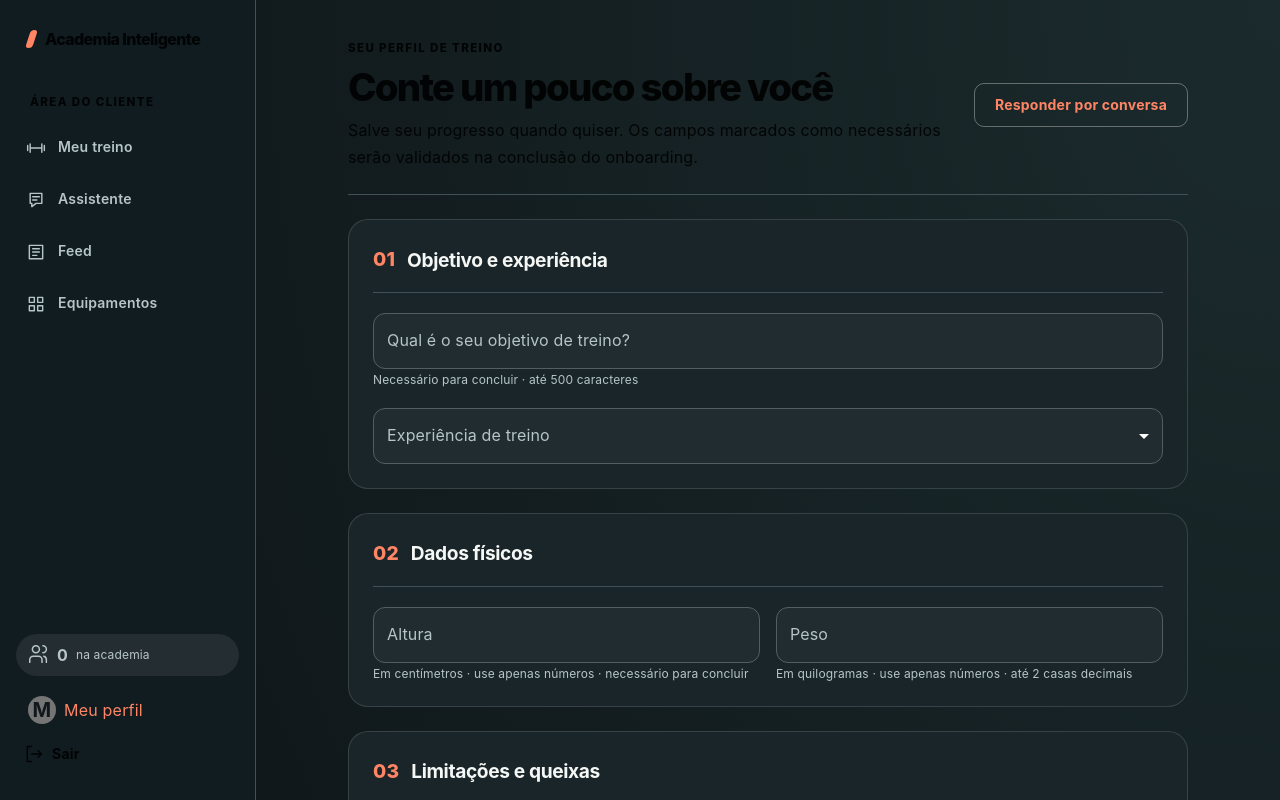
Test: loads the authenticated client draft and saves physical and health fields
Expected: the heading "Conte um pouco sobre você" is shown, [348,64,833,110]
Type "Ganhar força" into the text box labelled "Qual é o seu objetivo de treino?" at (768, 341), box [387,329,1149,352]
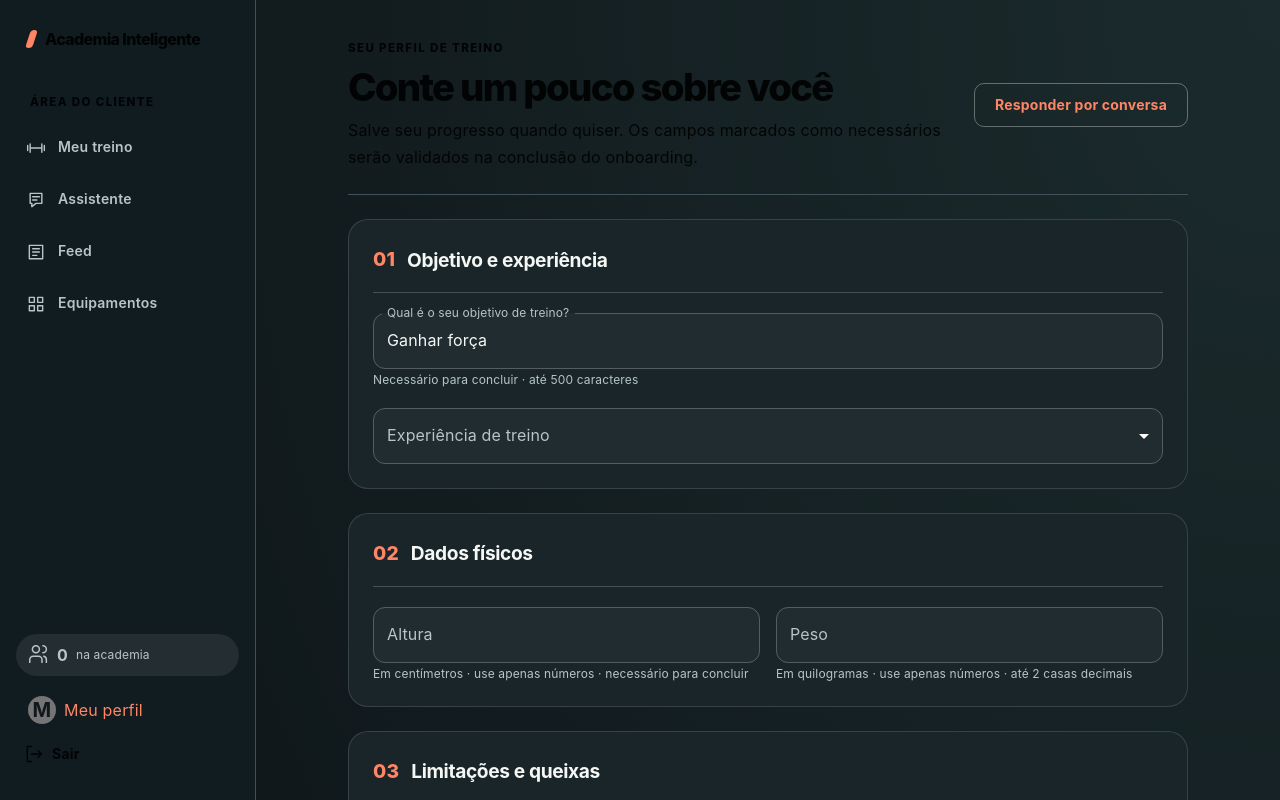
Type "175" into the field labelled "Altura" at (566, 635), box [373,607,760,663]
(page scrolled)
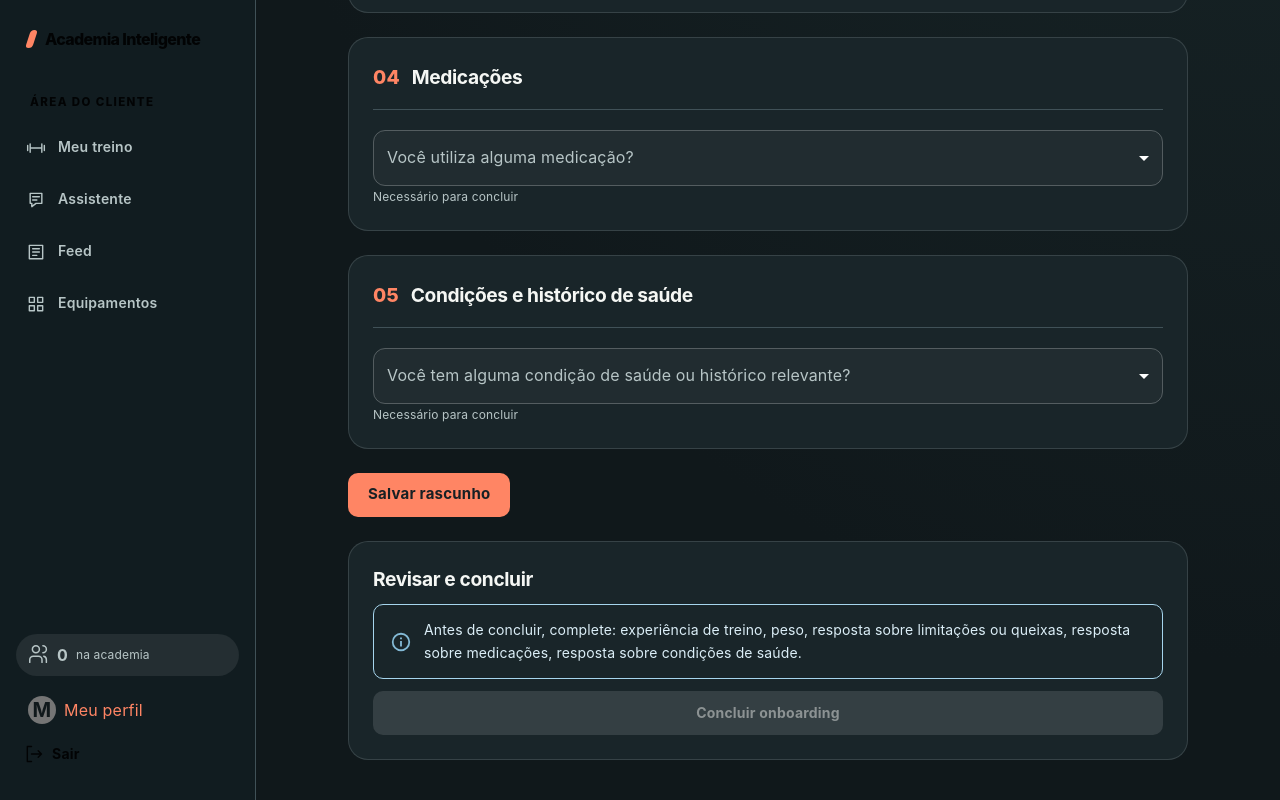
Click the button "Salvar rascunho" at (429, 494), box [348,472,510,516]
(page scrolled)
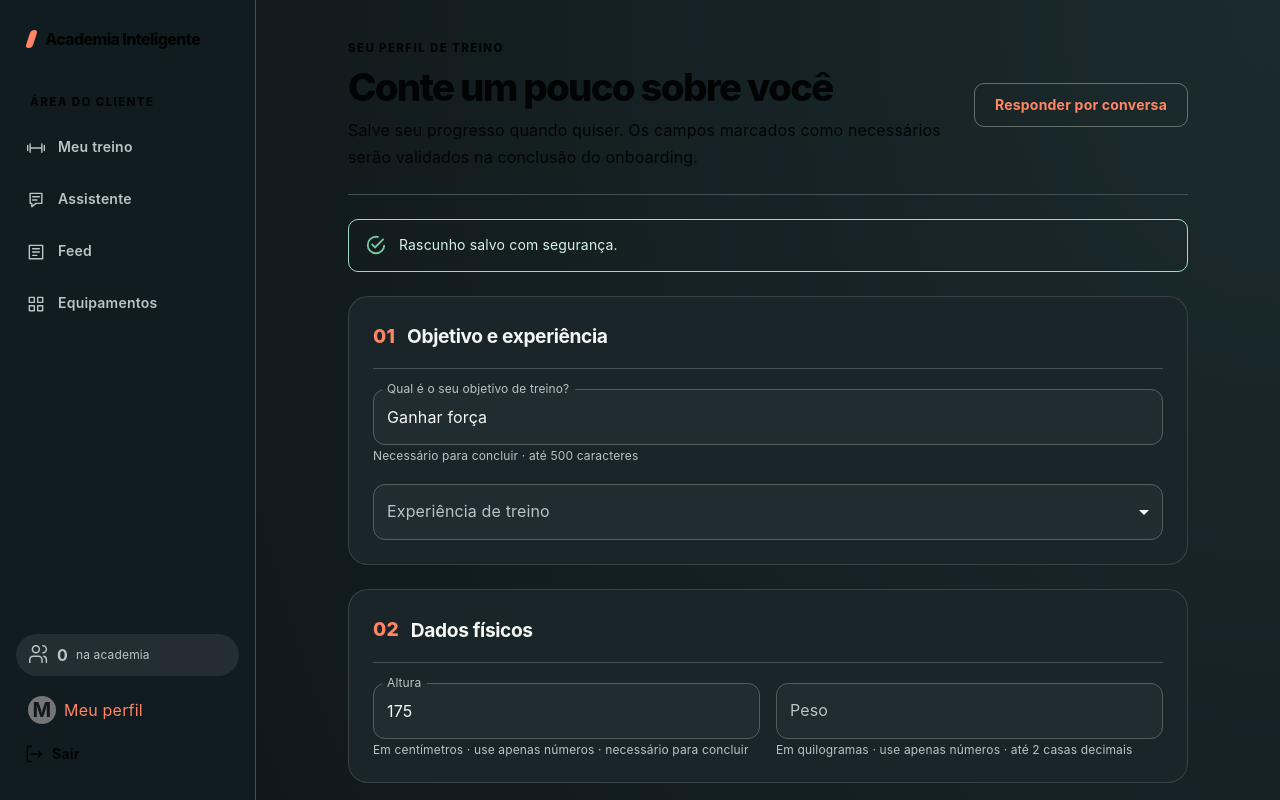
Now the text "Rascunho salvo com segurança." is shown, box [399,236,618,253]
